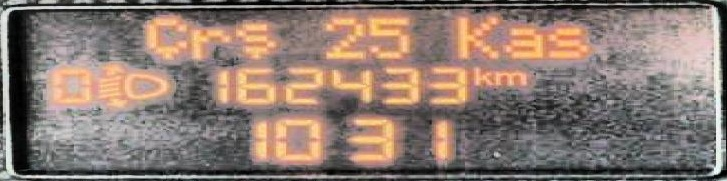0: (271, 117, 320, 161), (47, 66, 91, 103)
1: (429, 117, 449, 158), (249, 119, 267, 160), (213, 68, 229, 102)
2: (320, 16, 362, 58), (280, 66, 322, 103)
3: (345, 116, 394, 160), (425, 65, 467, 104), (378, 66, 418, 103)
4: (327, 68, 371, 102)
5: (365, 16, 411, 58)
6: (234, 67, 276, 103)
X: (453, 15, 500, 59), (142, 17, 187, 58), (232, 22, 274, 58), (187, 27, 229, 58), (500, 27, 542, 58), (545, 26, 585, 58), (491, 70, 525, 85), (471, 66, 491, 85)
